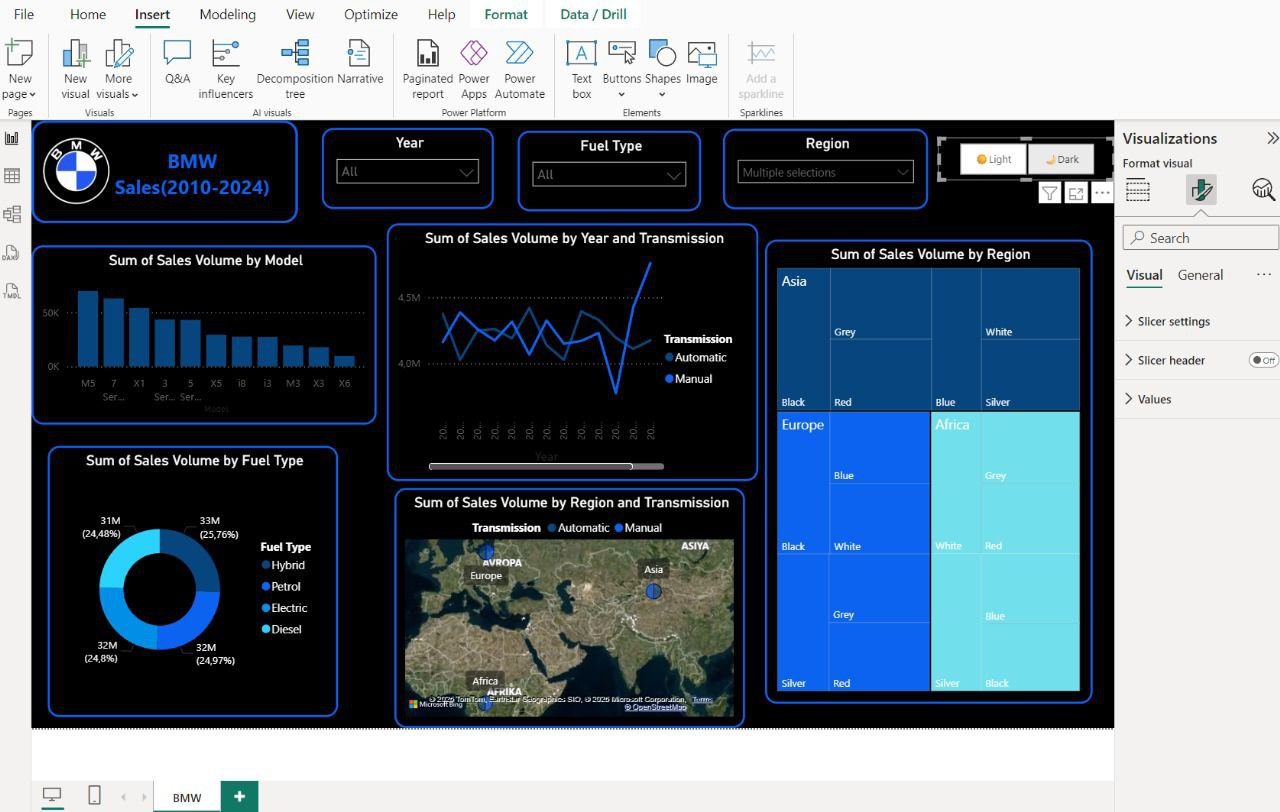

What the dashboard file says about the page in this screenshot:
{"tool":"powerbi","page":{"name":"BMW","canvas":[1280,720],"ordinal":0},"visuals":[{"type":"shape","box":[0,1.1,1280.5,719.3],"z":0},{"type":"donutChart","title":"Sum of Sales Volume by Fuel Type","fields":{"Category":["BMW sales data (2010-2024) (1).Fuel_Type"],"Y":["Sum(BMW sales data (2010-2024) (1).Sales_Volume)"]},"box":[19.2,386.2,343.3,320.7],"z":1000},{"type":"slicer","fields":{"Values":["Colors.Lebels"]},"box":[1071.6,15.8,208.9,57.6],"z":2000},{"type":"clusteredColumnChart","title":"Sum of Sales Volume by Model","fields":{"Category":["BMW sales data (2010-2024) (1).Model"],"Y":["Sum(BMW sales data (2010-2024) (1).Sales_Volume)"]},"box":[0,149,418.9,212.3],"z":3000},{"type":"slicer","title":"Year","fields":{"Values":["BMW sales data (2010-2024) (1).Year"]},"box":[343.3,10.2,203.2,96],"z":4000},{"type":"slicer","title":"Fuel type","fields":{"Values":["BMW sales data (2010-2024) (1).Fuel_Type"]},"box":[574.7,13.5,216.8,94.8],"z":5000},{"type":"slicer","title":"Region","fields":{"Values":["BMW sales data (2010-2024) (1).Region"]},"box":[817.5,11.3,242.8,94.8],"z":6000},{"type":"lineChart","title":"Sum of Sales Volume by Year and Transmission","fields":{"Category":["BMW sales data (2010-2024) (1).Year"],"Y":["Sum(BMW sales data (2010-2024) (1).Sales_Volume)"],"Series":["BMW sales data (2010-2024) (1).Transmission"]},"box":[430.9,122.1,415.8,304.6],"z":7000},{"type":"map","title":"Sum of Sales Volume by Region and Transmission","fields":{"Category":["BMW sales data (2010-2024) (1).Region"],"Size":["Sum(BMW sales data (2010-2024) (1).Sales_Volume)"],"Series":["BMW sales data (2010-2024) (1).Transmission"]},"box":[429.5,436,414.4,284],"z":8000},{"type":"treemap","title":"Sum of Sales Volume by Region","fields":{"Group":["BMW sales data (2010-2024) (1).Region"],"Values":["Sum(BMW sales data (2010-2024) (1).Sales_Volume)"],"Details":["BMW sales data (2010-2024) (1).Color"]},"box":[867.2,142.7,387,548.9],"z":9000},{"type":"image","box":[7.9,13.5,90.3,96],"z":10000},{"type":"shape","box":[98.2,21.5,184.1,84.7],"z":11000},{"type":"actionButton","box":[0,1.1,315,121.9],"z":12000}]}

Visuals, with their boxes on the page's 1280x720 design canvas (x1, y1, x2, y2). These are canvas units, not pixel positions in the 1280x812 screenshot, which may show the page scaled, cropped or inside an application window:
shape: (x1=0, y1=1, x2=1280, y2=720)
"Sum of Sales Volume by Fuel Type" donutChart: (x1=19, y1=386, x2=362, y2=707)
slicer - Colors.Lebels: (x1=1072, y1=16, x2=1280, y2=73)
"Sum of Sales Volume by Model" clusteredColumnChart: (x1=0, y1=149, x2=419, y2=361)
"Year" slicer: (x1=343, y1=10, x2=546, y2=106)
"Fuel type" slicer: (x1=575, y1=14, x2=792, y2=108)
"Region" slicer: (x1=818, y1=11, x2=1060, y2=106)
"Sum of Sales Volume by Year and Transmission" lineChart: (x1=431, y1=122, x2=847, y2=427)
"Sum of Sales Volume by Region and Transmission" map: (x1=430, y1=436, x2=844, y2=720)
"Sum of Sales Volume by Region" treemap: (x1=867, y1=143, x2=1254, y2=692)
image: (x1=8, y1=14, x2=98, y2=110)
shape: (x1=98, y1=22, x2=282, y2=106)
actionButton: (x1=0, y1=1, x2=315, y2=123)
